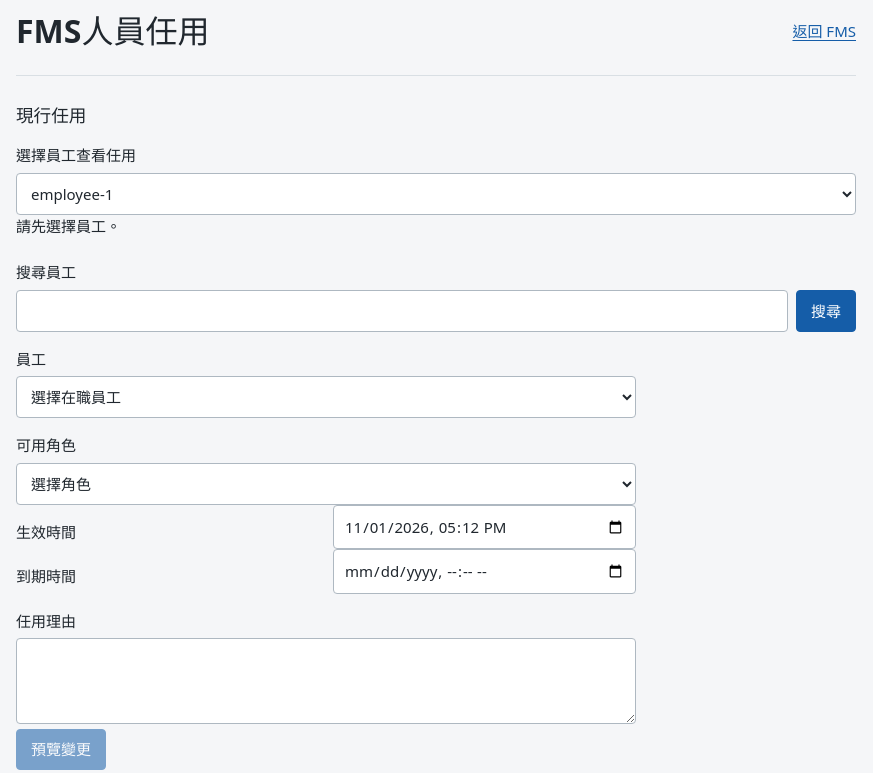
it: FMS role assignment workspace › preserves invalid validity values in the current assignment list
Select "employee-1" in the dropdown labelled "選擇員工查看任用". click: (436, 194)
box: [16,173,856,215]
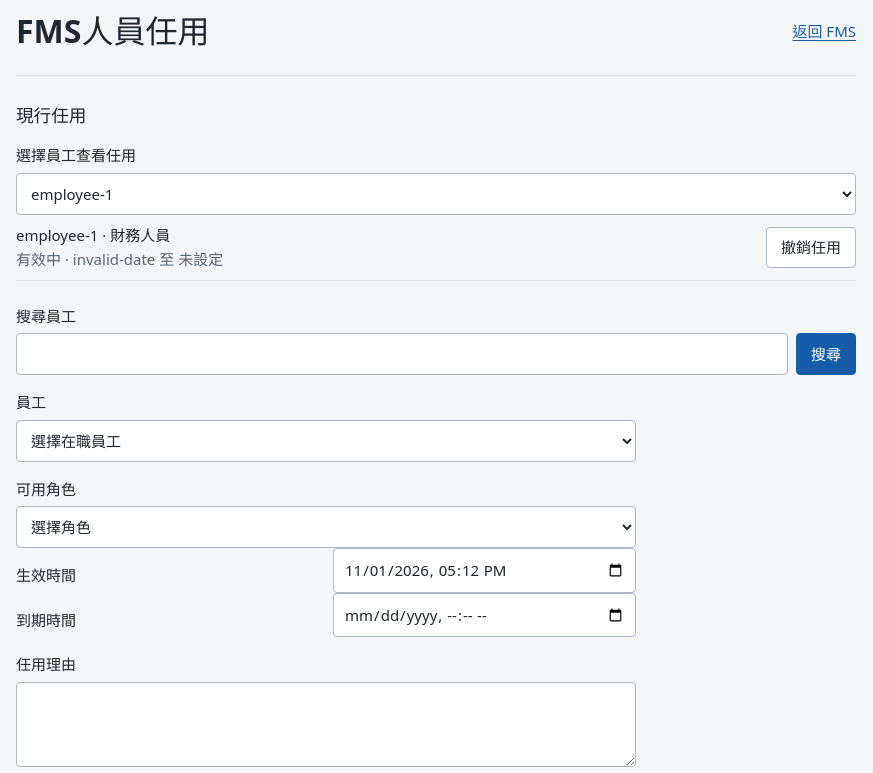
Now the text "invalid-date 至 未設定" is shown, box [16,248,223,271]
